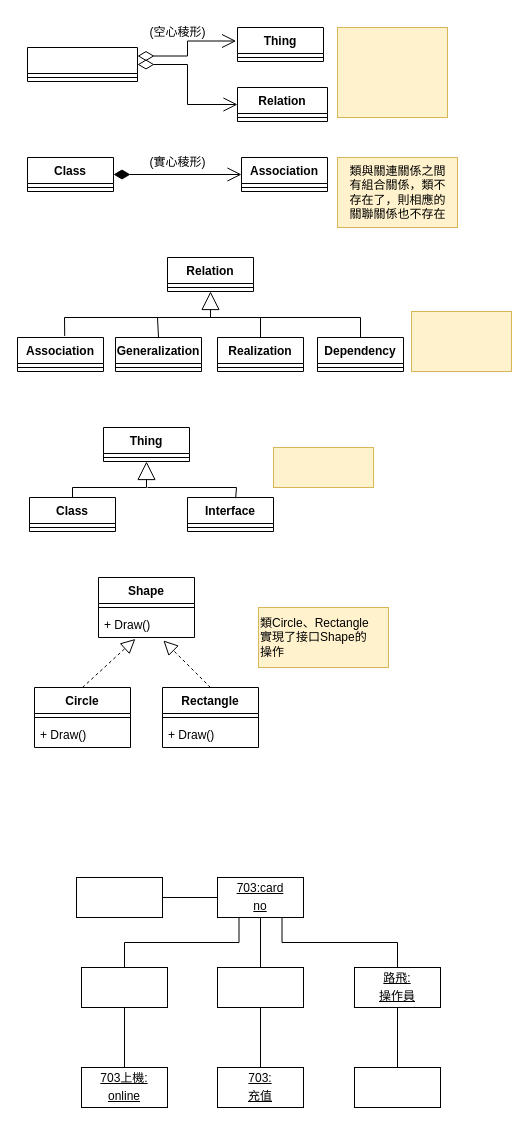
Image size: 529x1125. Some labels were removed from this diagram. Here are the shapes that lost their labels. From the top down, the centre of each, then its label:
the point at 82,64: ClassDiagram
the point at 392,72: 類圖包含有事物 和關係，類圖不 存在了，事物和 關係還可用於其 它的類圖
the point at 461,341: 關聯、泛化、 實現、依賴都 是一種關係
the point at 323,467: 類，接口都是 一種事物
the point at 119,897: big mom: 學生
the point at 124,987: 喬巴: 一般用戶
the point at 260,987: 索羅: 操作員
the point at 397,1087: 今日帳單: CheceDay
